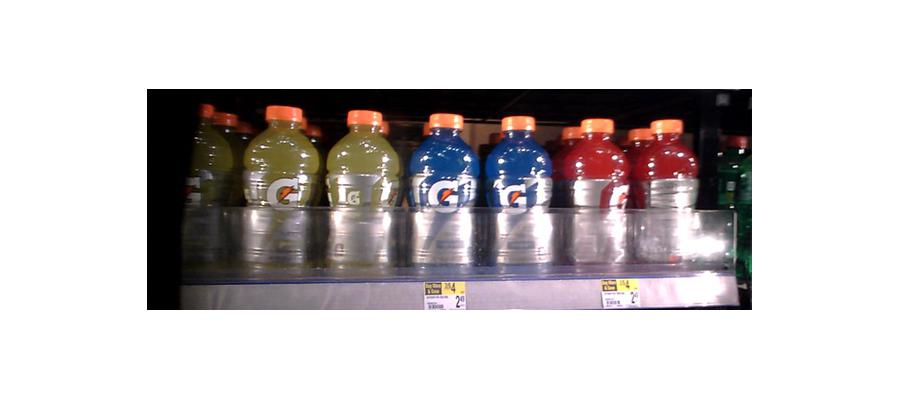bottle: (241, 101, 317, 277), (324, 105, 399, 277), (404, 109, 478, 282), (485, 113, 554, 276), (562, 115, 629, 274), (634, 115, 697, 268), (183, 104, 234, 272)
